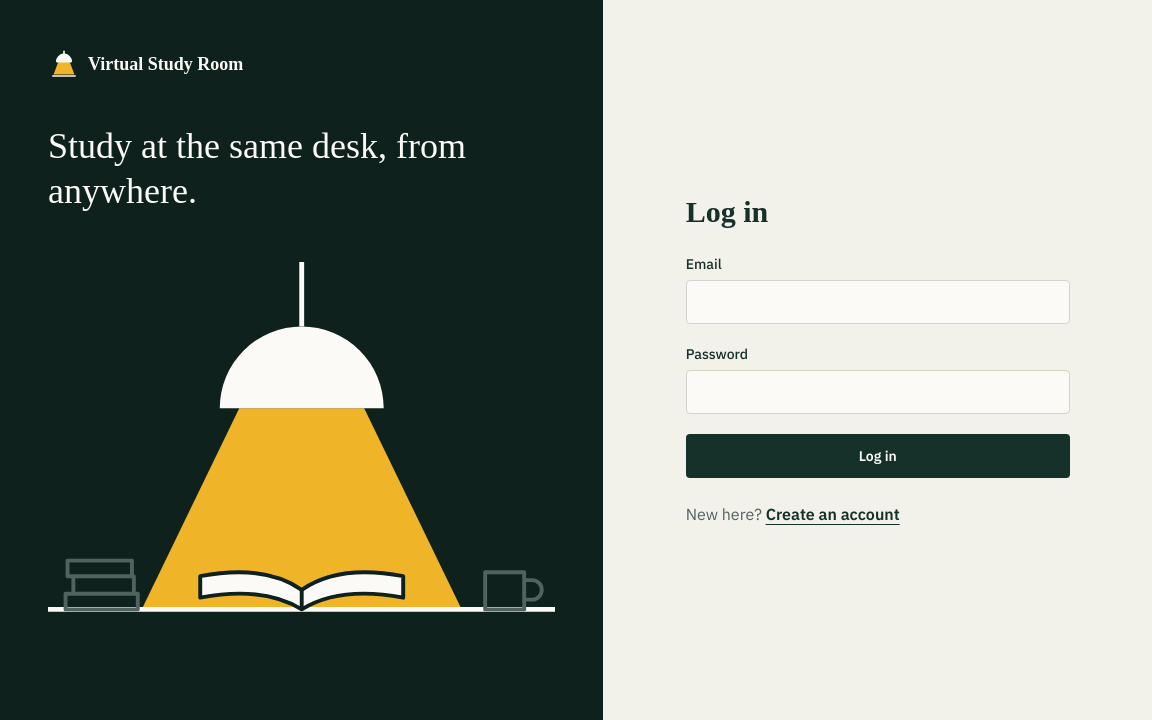
Test case: Login › shows why login failed and stays on the page
Type "m@example.com" into the field labelled "Email".
click(878, 302); type("m@example.com")  # box x1=686 y1=280 x2=1070 y2=324
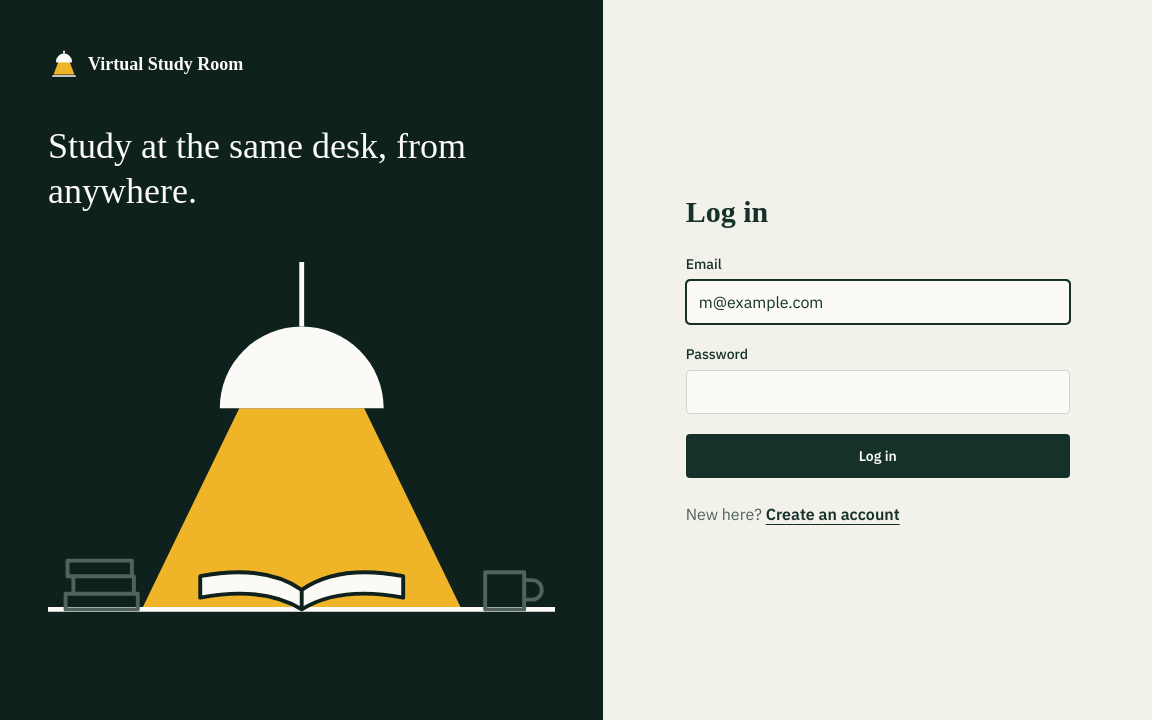
Type "secret12" into the password field labelled "Password".
click(878, 392); type("secret12")  # box x1=686 y1=370 x2=1070 y2=414
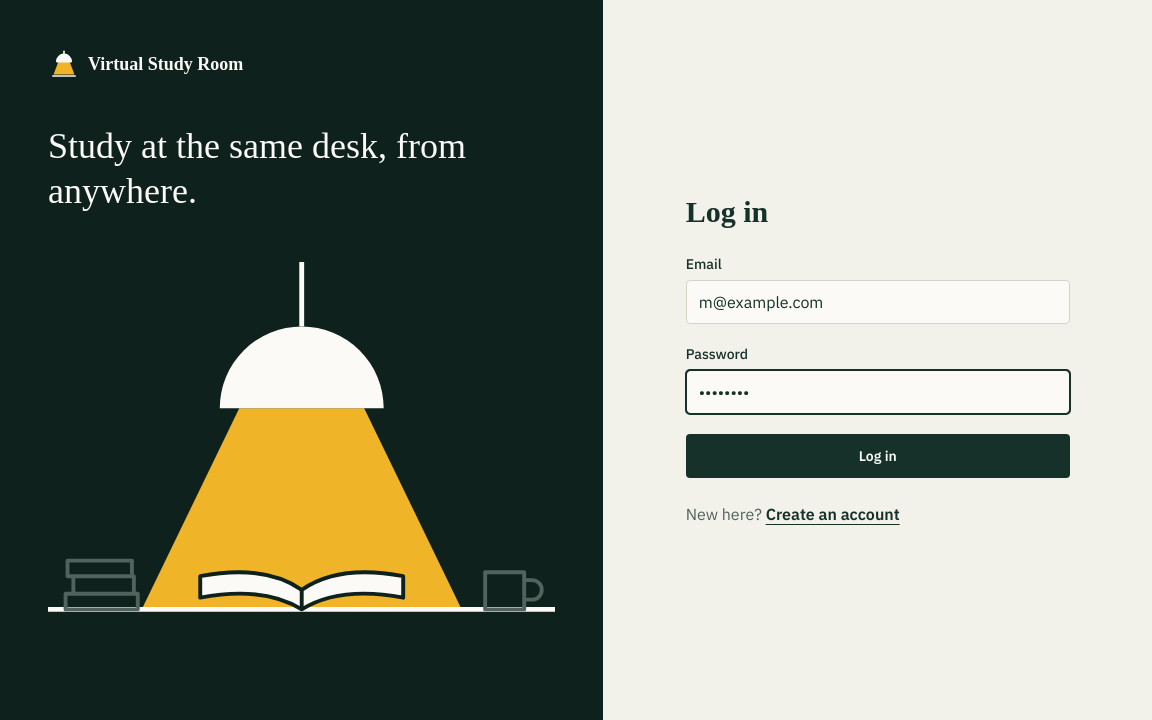
Click the button "Log in".
click(878, 456)  # box x1=686 y1=434 x2=1070 y2=478
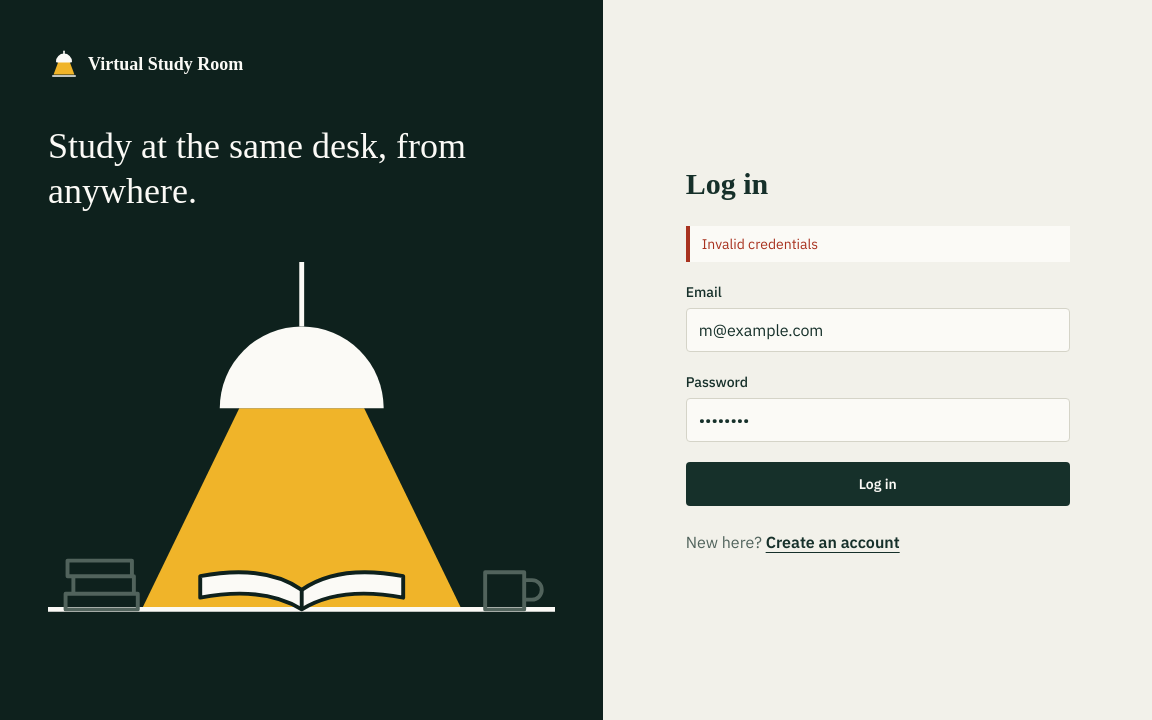
Expected: the button "Log in" is enabled, x1=686 y1=462 x2=1070 y2=506
Result: the message reads "Invalid credentials" at x1=702 y1=235 x2=818 y2=253
